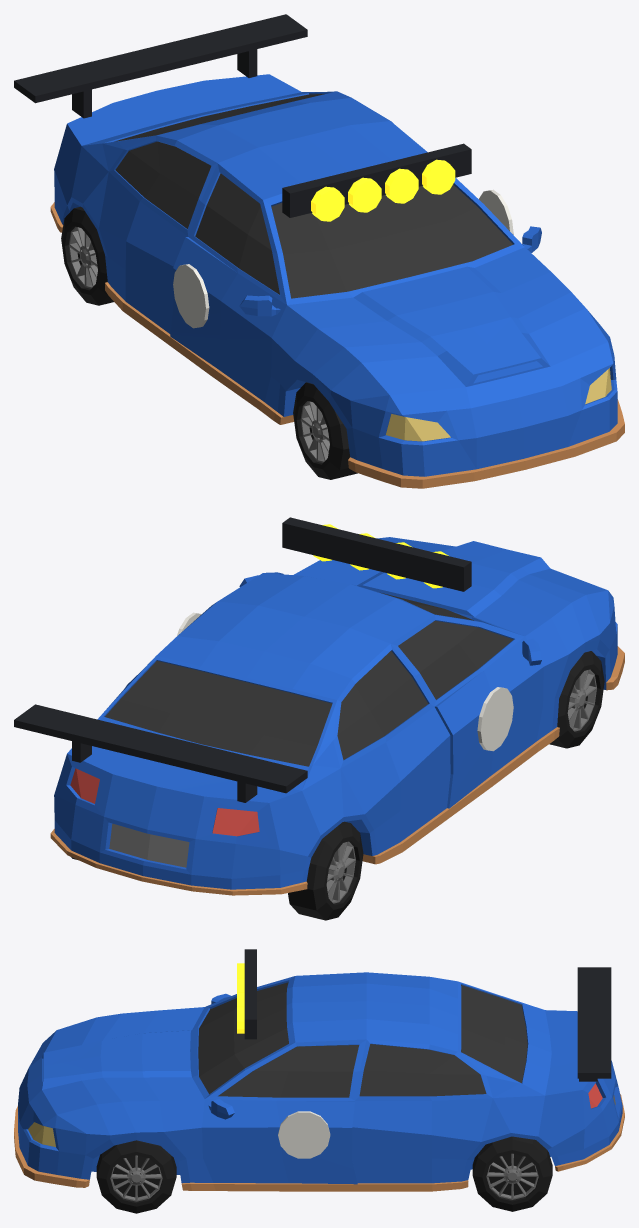
The model's file is rally.glb.
3 views of the same model, one above another, from view 1: azimuth 30°, elevation 25°; view 2: azimuth 150°, elevation 25°; view 3: azimuth 270°, elevation 25° (orthographic). The views are drawn at different scales.
Parts seen in each view (by area): view 1: SportsCar; view 2: SportsCar; view 3: SportsCar.
Part boxes in pixels (<box>): SportsCar: <box>14,14,624,488</box>; SportsCar: <box>14,517,624,920</box>; SportsCar: <box>14,949,624,1213</box>.
Bounding box in the file's own units: 1.83 × 1.28 × 3.97.
